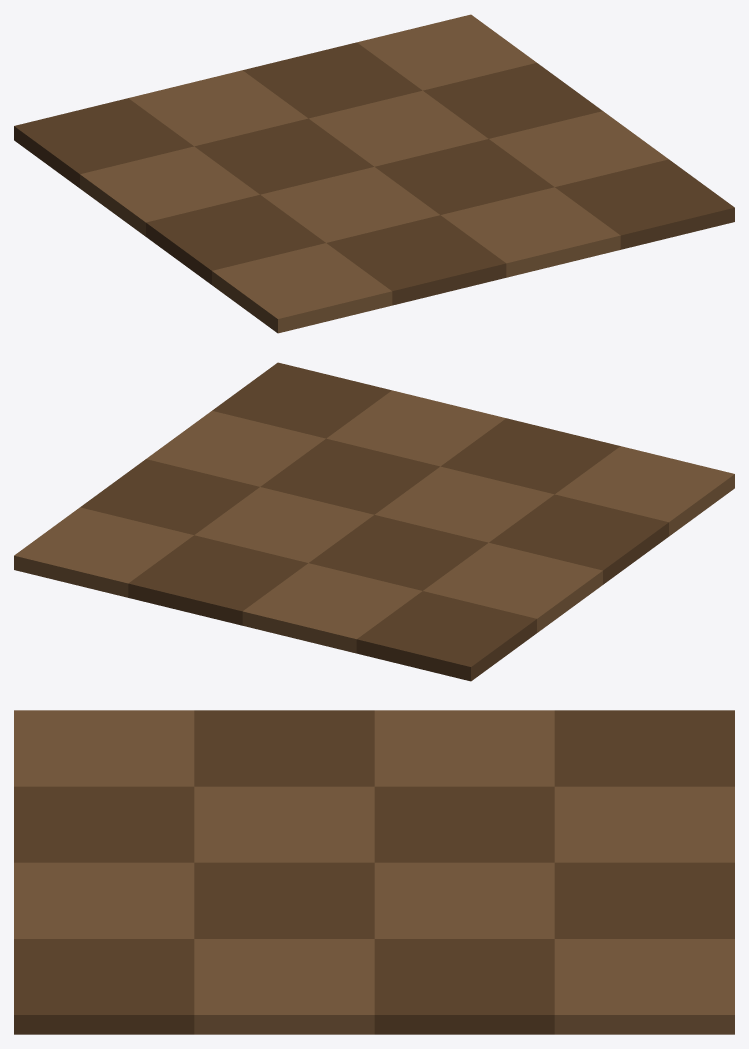
The model's file is floor.glb.
3 renders of one model, top to bottom at view 1: azimuth 30°, elevation 25°; view 2: azimuth 150°, elevation 25°; view 3: azimuth 270°, elevation 25°, orthographic. The views are drawn at different scales.
Visible parts, largest first — view 1: floor; view 2: floor; view 3: floor.
Part boxes in pixels (left/top/right/bottom): floor: left=14, top=14, right=734, bottom=333; floor: left=14, top=362, right=734, bottom=681; floor: left=14, top=710, right=734, bottom=1034.
Bounding box in the file's own units: 1 × 0.03 × 1.
1 material, 1 textured.
